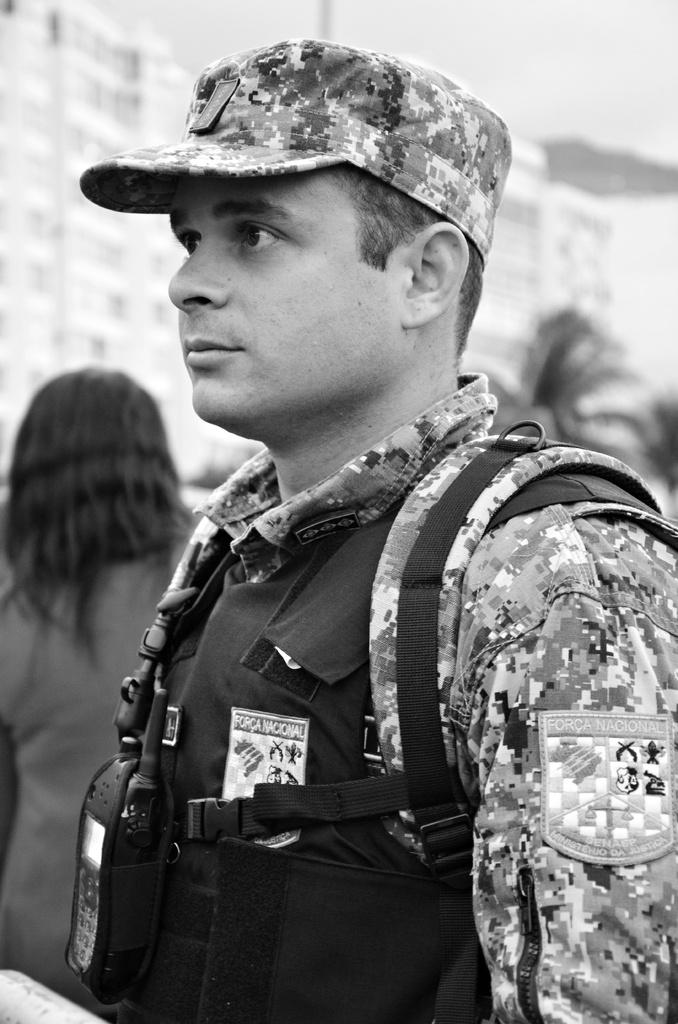Hat: (98, 42, 488, 226)
